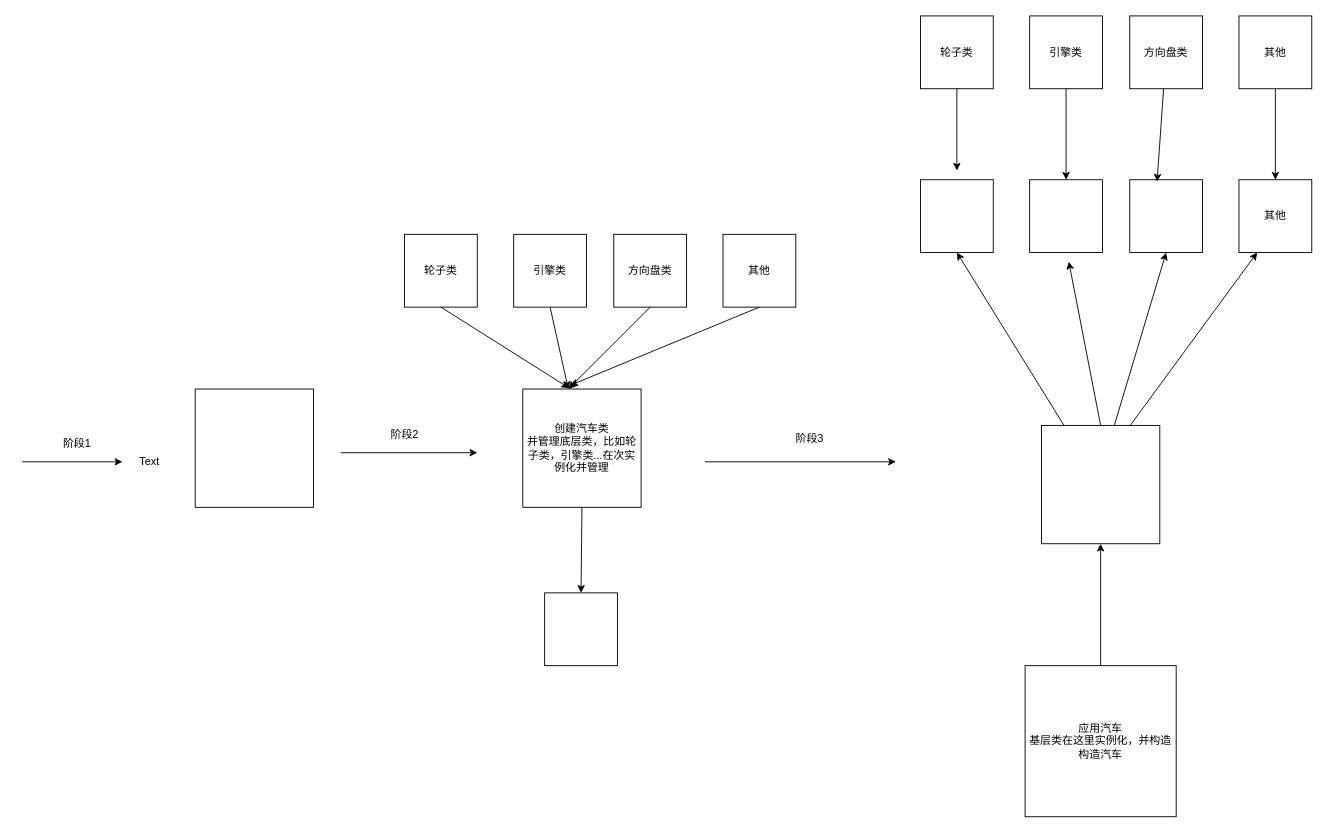
Some shapes in this 1328 by 833 pixel diagram are drawn without their labels. Each missing label, with the centre of its shape:
创建汽车类 使用构造函数，将依赖的轮子，引擎等。利用依赖注入，提高独立性: the point at 1100,484
创建汽车类 实例化汽车类并应用: the point at 253,447
引擎接口: the point at 1065,216
方向盘接口: the point at 1166,216
根据汽车的构造函数，与公共方法应用汽车类.: the point at 580,629
轮子接口: the point at 956,216
